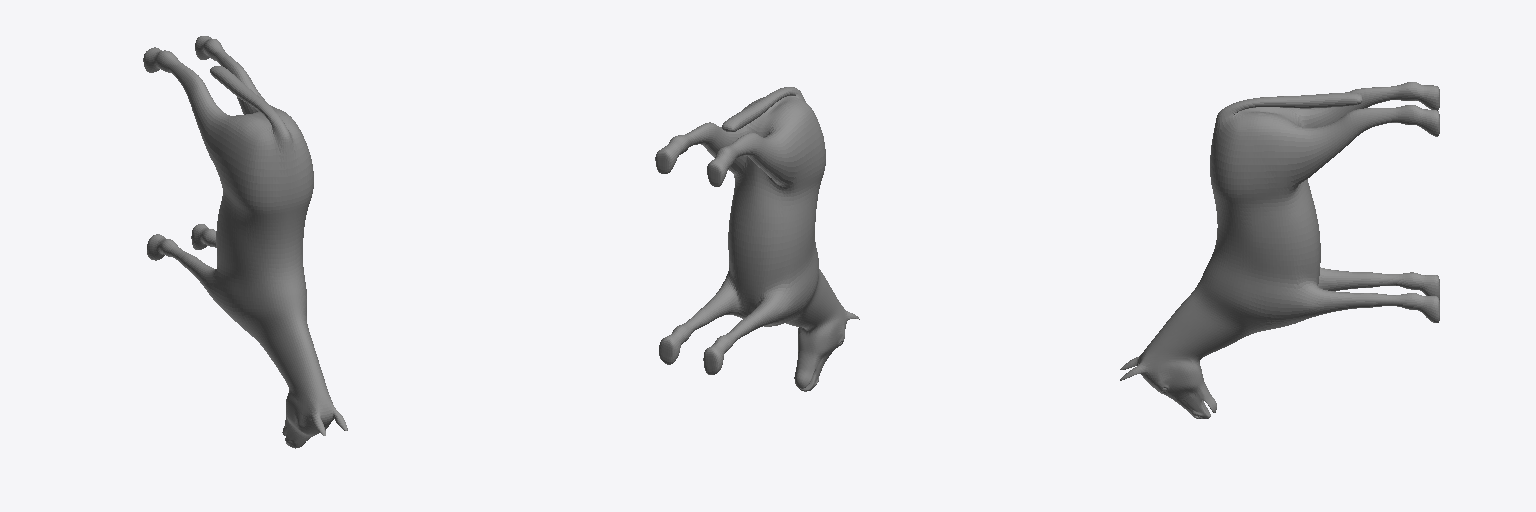
File: horse.obj
The picture shows the model from 3 angles: view 1: azimuth 30°, elevation 25°; view 2: azimuth 150°, elevation 25°; view 3: azimuth 270°, elevation 25°; orthographic projection.
Parts seen in each view (by area): view 1: 10026_Horse_v01; view 2: 10026_Horse_v01; view 3: 10026_Horse_v01.
Part boxes in pixels (bbox=[...]): 10026_Horse_v01: bbox=[143, 36, 347, 448]; 10026_Horse_v01: bbox=[655, 87, 859, 391]; 10026_Horse_v01: bbox=[1120, 82, 1439, 418].
Bounding box in the file's own units: 427 × 1791 × 1599.